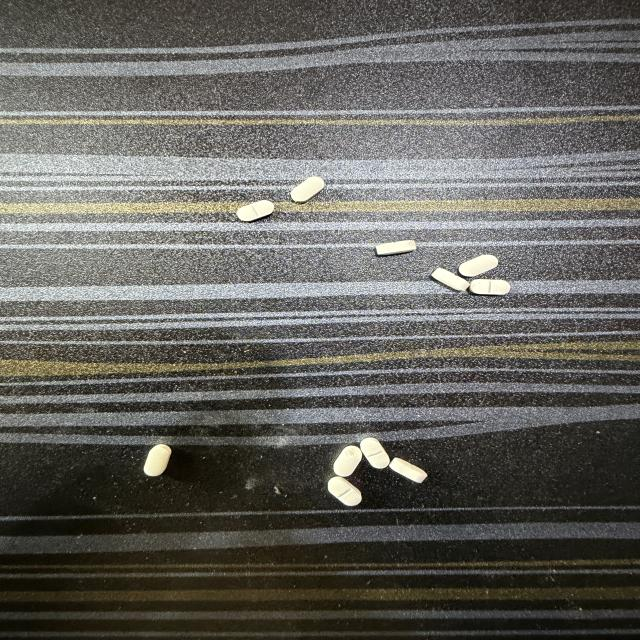pill: (328, 477, 361, 506), (389, 458, 427, 482), (291, 177, 325, 203), (333, 446, 362, 476), (360, 438, 389, 468), (459, 255, 498, 277), (144, 445, 171, 476), (431, 268, 469, 290), (237, 201, 274, 221), (470, 279, 510, 295), (376, 241, 416, 255)
